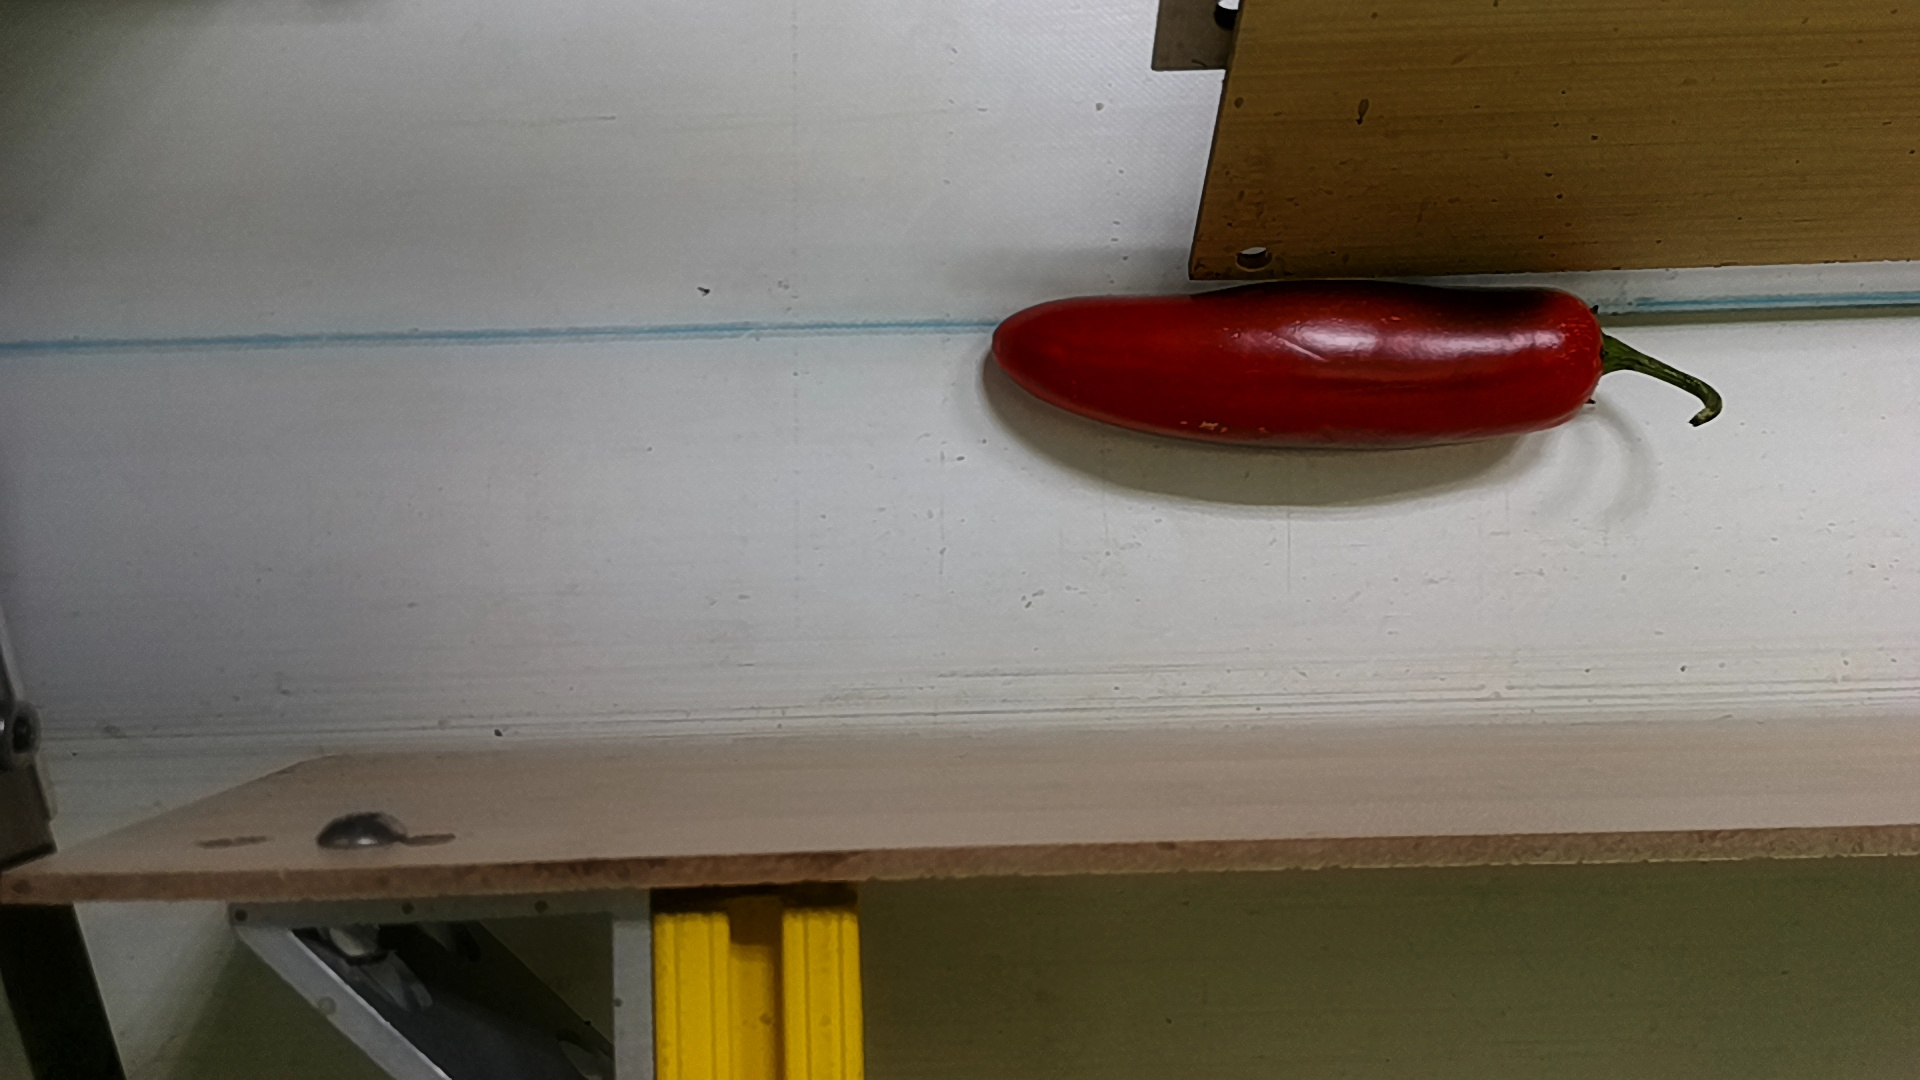Cut Point: (1545, 282, 1636, 425)
